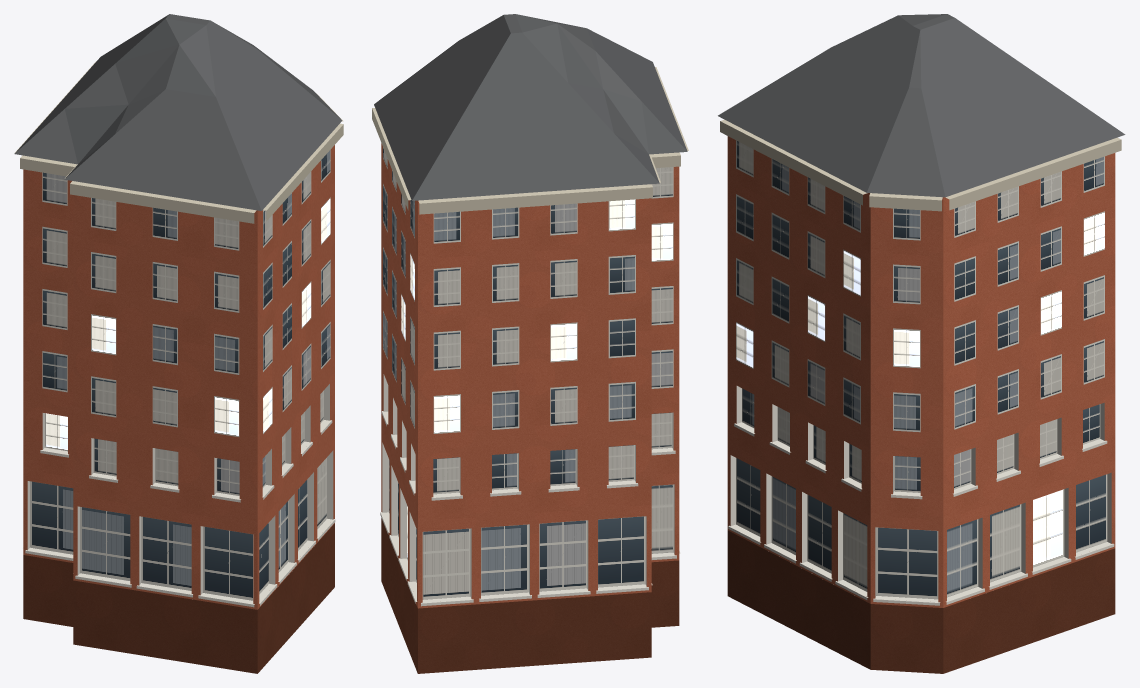
The model's file is z4_zurl29.glb.
3 renders of one model, left to right at view 1: azimuth 30°, elevation 25°; view 2: azimuth 150°, elevation 25°; view 3: azimuth 270°, elevation 25°, orthographic. The views are drawn at different scales.
Visible parts, largest first — view 1: z4_zurl29; view 2: z4_zurl29; view 3: z4_zurl29.
Part boxes in pixels (<box>): z4_zurl29: <box>14,14,343,673</box>; z4_zurl29: <box>372,14,688,673</box>; z4_zurl29: <box>718,14,1125,673</box>.
Size of the model in its own units: 14.26 by 26.84 by 16.84.
3 materials, 3 textured.
